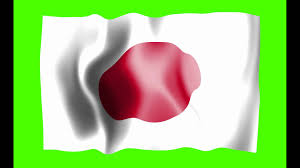Japanese Flag: (41, 13, 260, 154)
